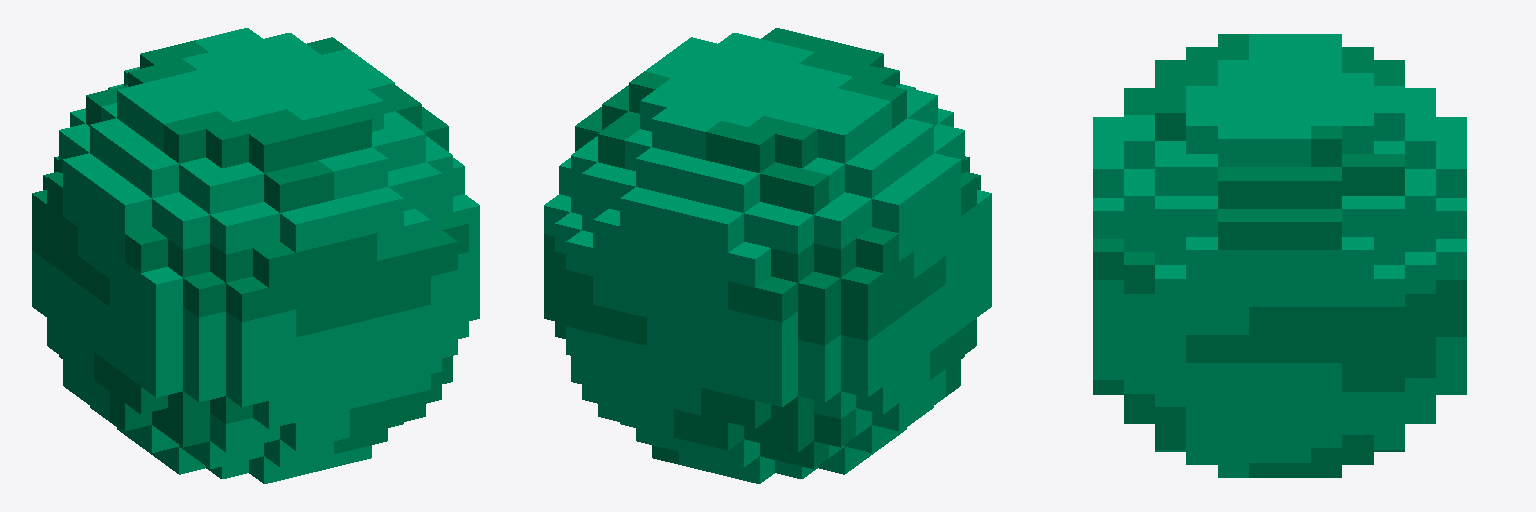
The picture shows the model from 3 angles: view 1: azimuth 30°, elevation 25°; view 2: azimuth 150°, elevation 25°; view 3: azimuth 270°, elevation 25°; orthographic projection.
Bounding box in the file's own units: 12 × 12 × 12.
Materials: 1 (1 with a texture image).